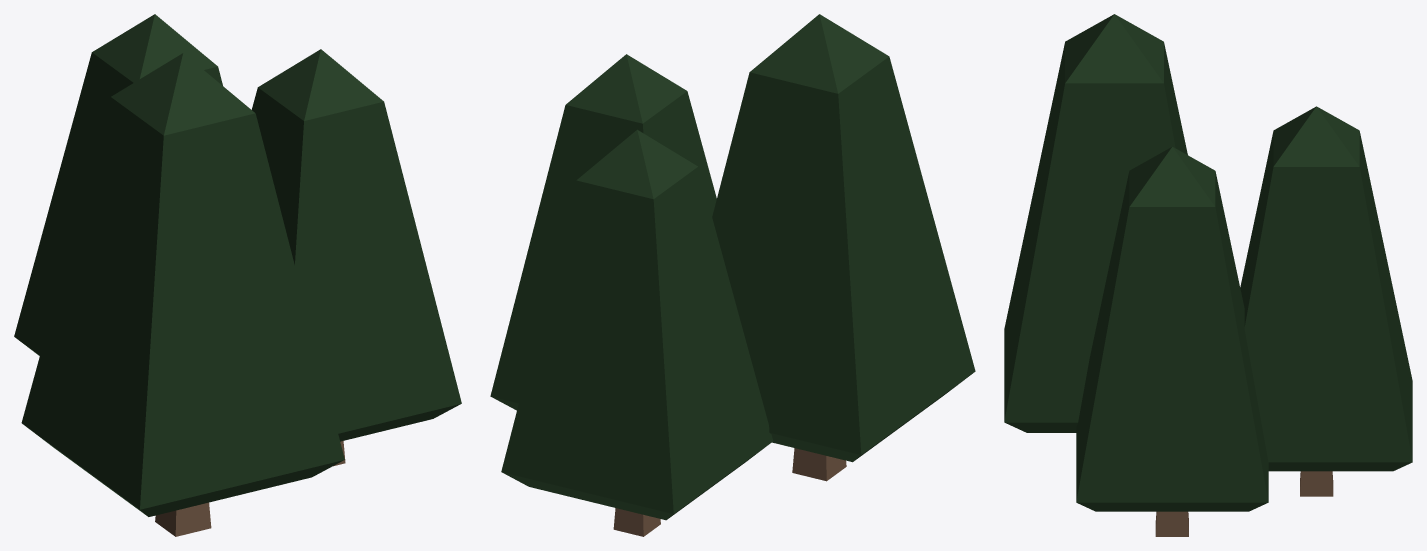
File: test_tree_cluster.fbx
3 views of the same model, side by side, from view 1: azimuth 30°, elevation 25°; view 2: azimuth 150°, elevation 25°; view 3: azimuth 270°, elevation 25° (orthographic). The views are drawn at different scales.
Visible parts, largest first — view 1: test_tree_cluster; view 2: test_tree_cluster; view 3: test_tree_cluster.
Boxes of the visible parts, x1,y1,x2,y2 form: test_tree_cluster: (14, 14, 461, 536); test_tree_cluster: (490, 14, 975, 536); test_tree_cluster: (1004, 14, 1412, 536).
Size of the model in its own units: 0.5074 by 0.6346 by 0.5341.
1 material, 1 textured.
